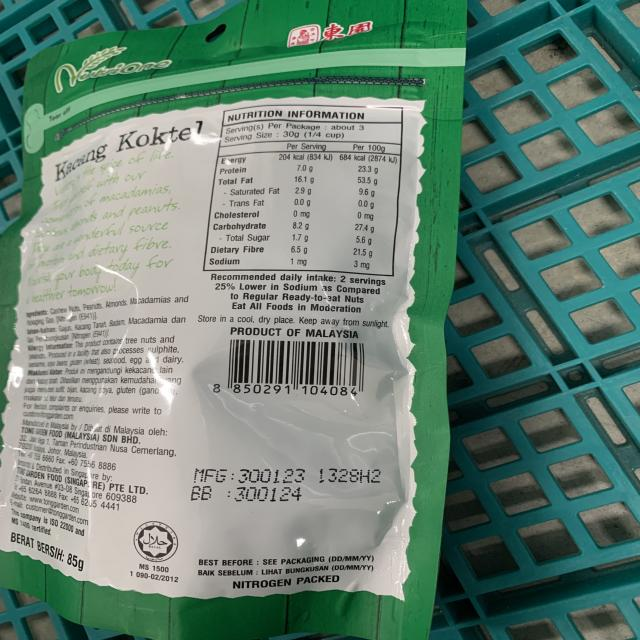object_name: (27, 16, 430, 640)
